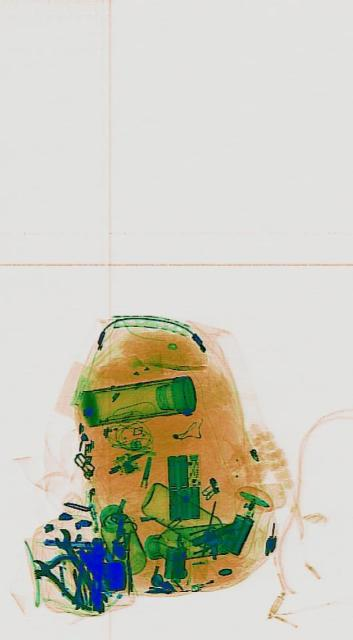Pliers: (29, 544, 80, 604)
Wrench: (51, 520, 104, 616)
